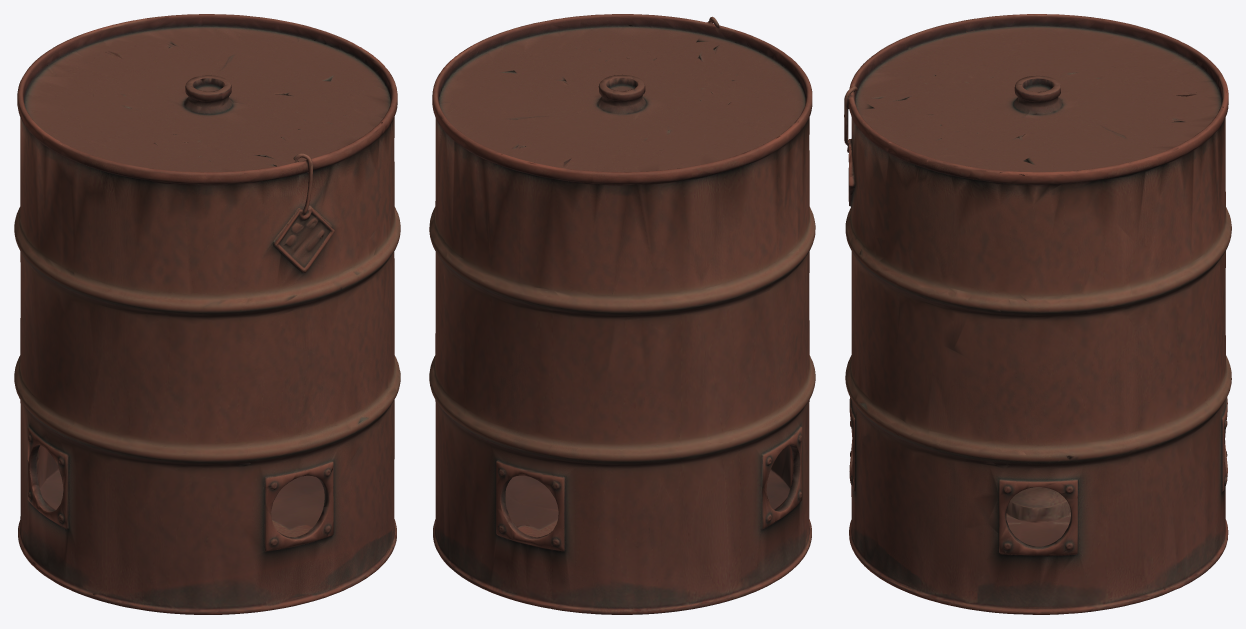
The model's file is fire_barrel.glb.
3 renders of one model, left to right at view 1: azimuth 30°, elevation 25°; view 2: azimuth 150°, elevation 25°; view 3: azimuth 270°, elevation 25°, orthographic.
Bounding box in the file's own units: 1.48 × 1.91 × 1.49.
1 material, 1 textured.
